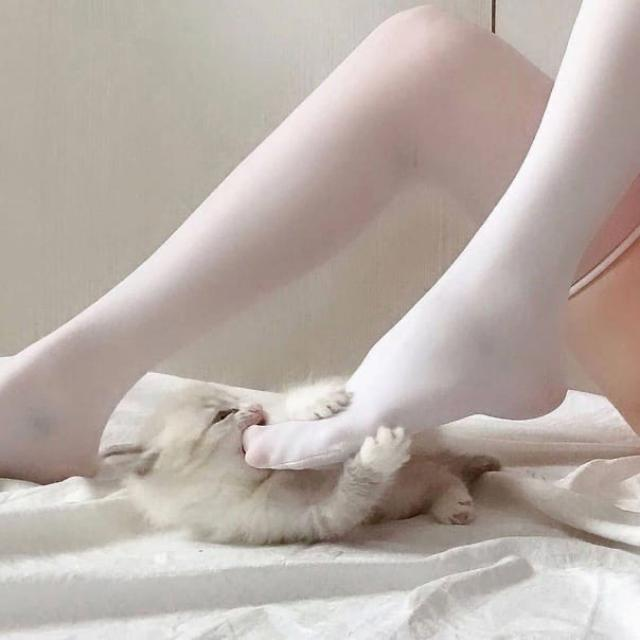Cats: (110, 378, 412, 556)
